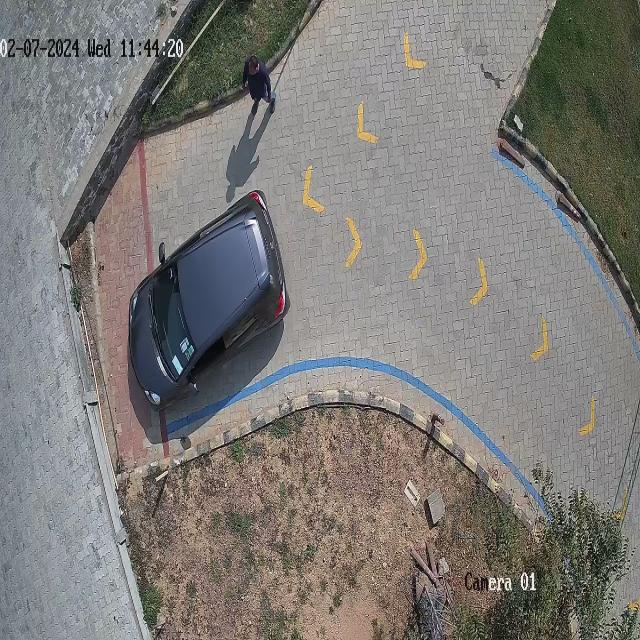car: (129, 191, 289, 409)
